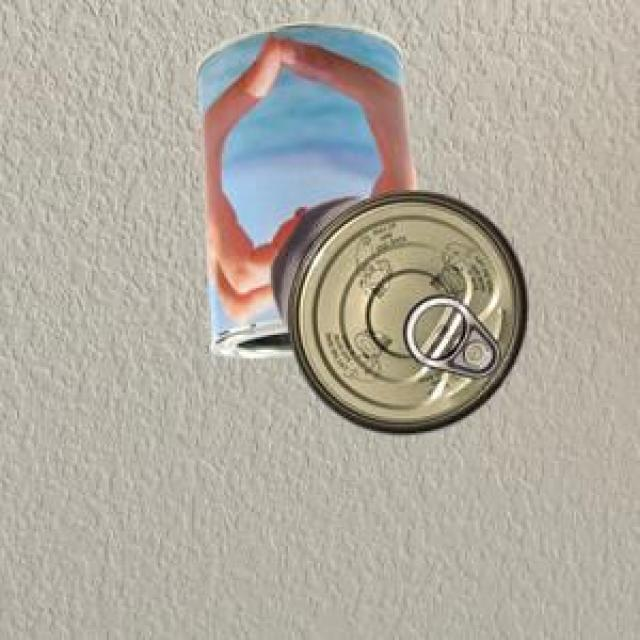Can: (193, 18, 415, 355), (268, 189, 526, 432)
